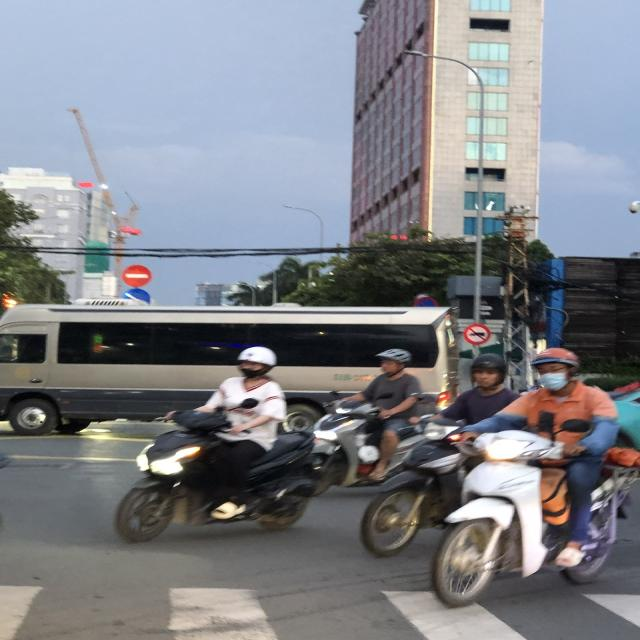Bien bao cam di nguoc chieu: (122, 263, 154, 288)
